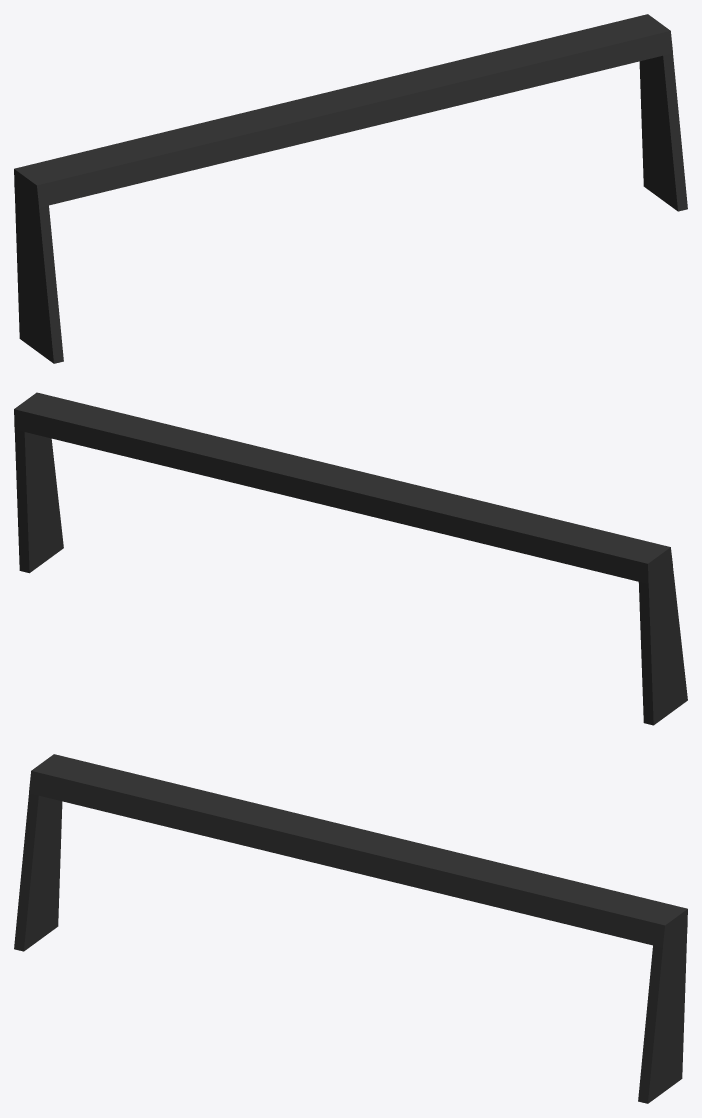
File: dc_metro_roof_o15.obj
3 renders of one model, top to bottom at view 1: azimuth 30°, elevation 25°; view 2: azimuth 150°, elevation 25°; view 3: azimuth 330°, elevation 25°, orthographic.
Visible parts, largest first — view 1: part15; view 2: part15; view 3: part15.
Part boxes in pixels (<box>): part15: <box>14,14,687,363</box>; part15: <box>14,392,687,725</box>; part15: <box>14,754,687,1103</box>.
Bounding box in the file's own units: 4 × 1 × 0.4375.
Materials: 1 (1 with a texture image).
